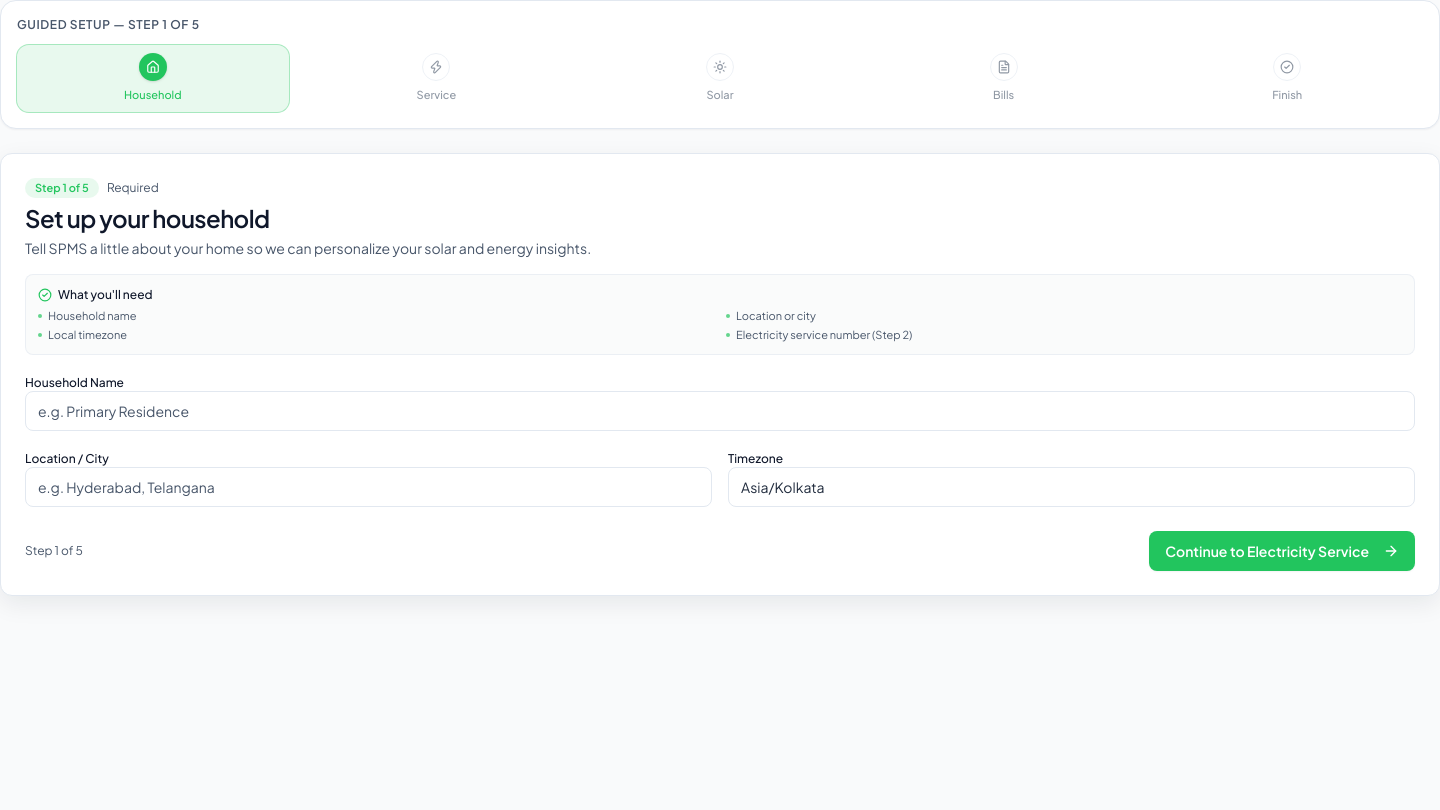
Test: F11 Guided Onboarding Flow › completes Step 1 and advances to Step 2
Step 1. Type "Green Haven" into the field labelled "Household Name" → (720, 411), box [25,391,1415,431]
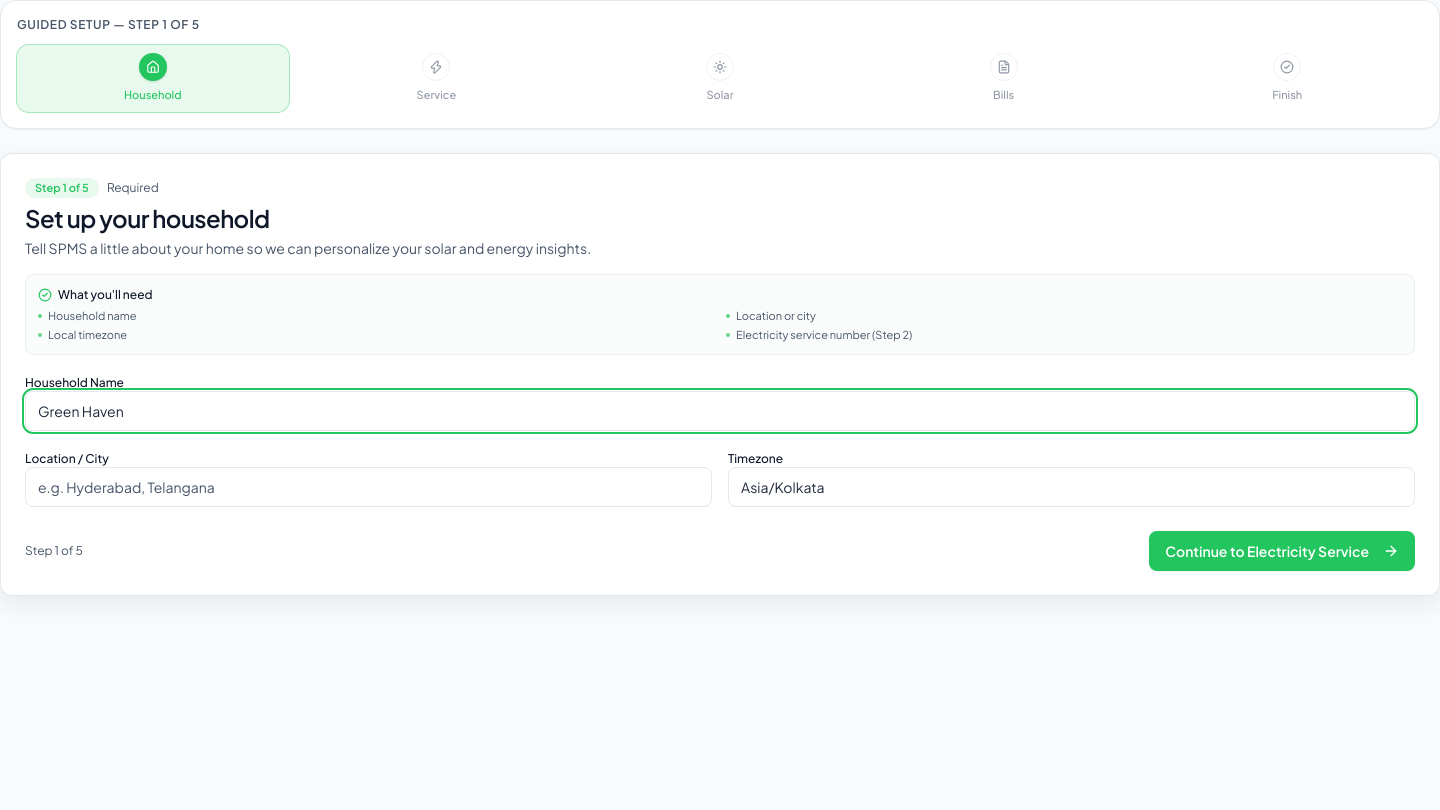
Step 2. Type "Nellore, AP" into the field labelled "Location / City" → (368, 487), box [25,467,712,507]
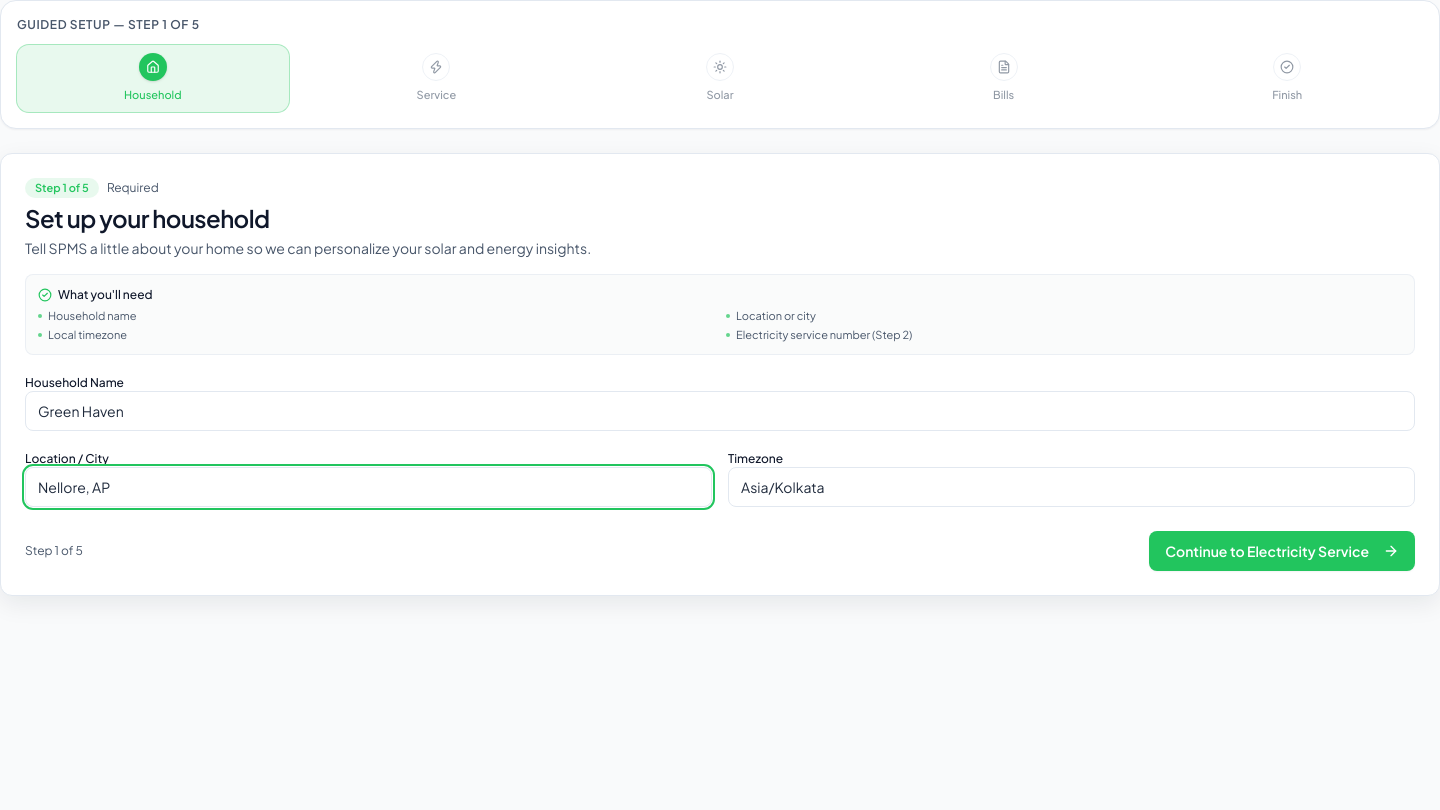
Step 3. Click the button "Continue to Electricity Service" → (1282, 551), box [1149,531,1415,571]
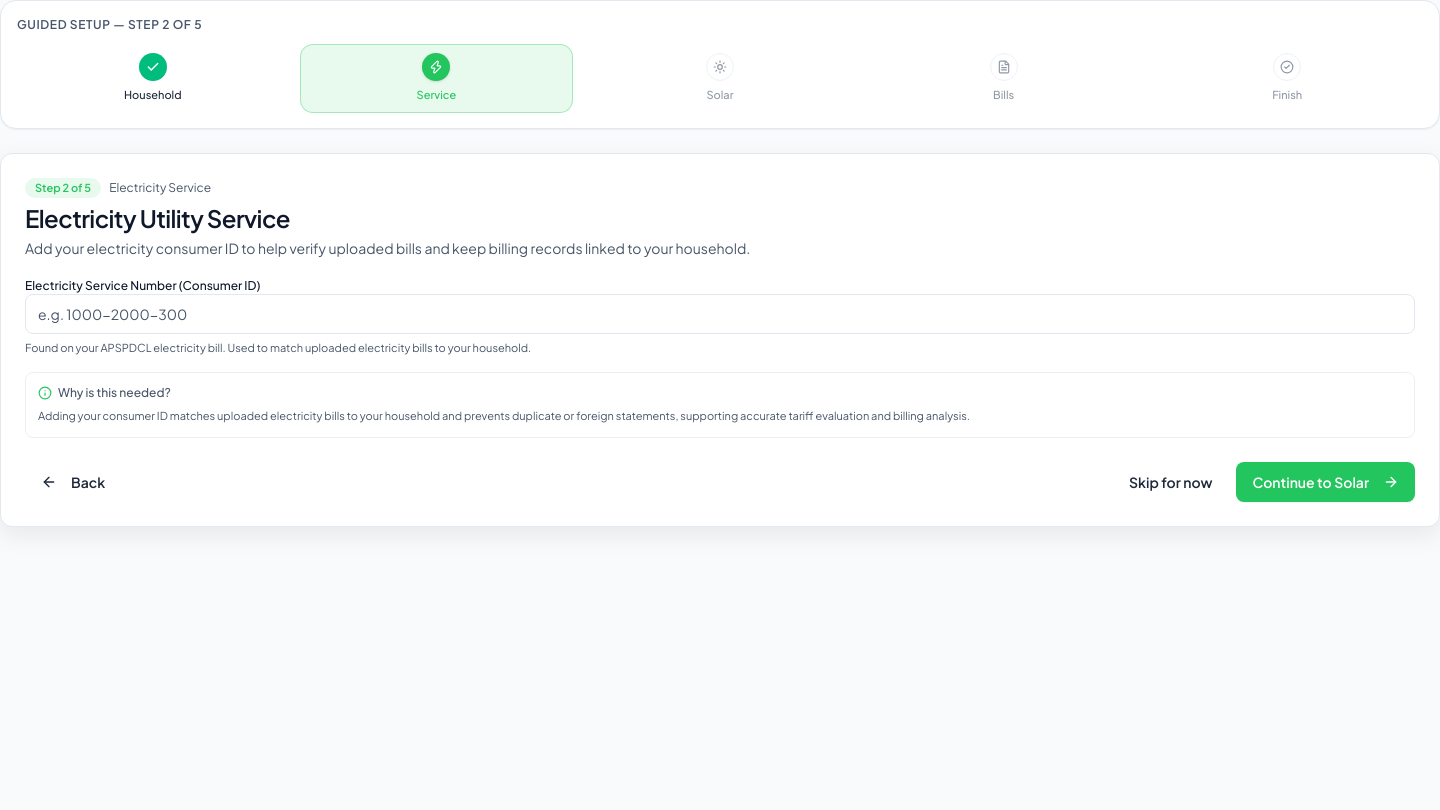
Expected: the text "Guided Setup — Step 2 of 5" is shown, [17,17,202,33]
Expected: the heading "Electricity Utility Service" is shown, [25,203,290,233]
